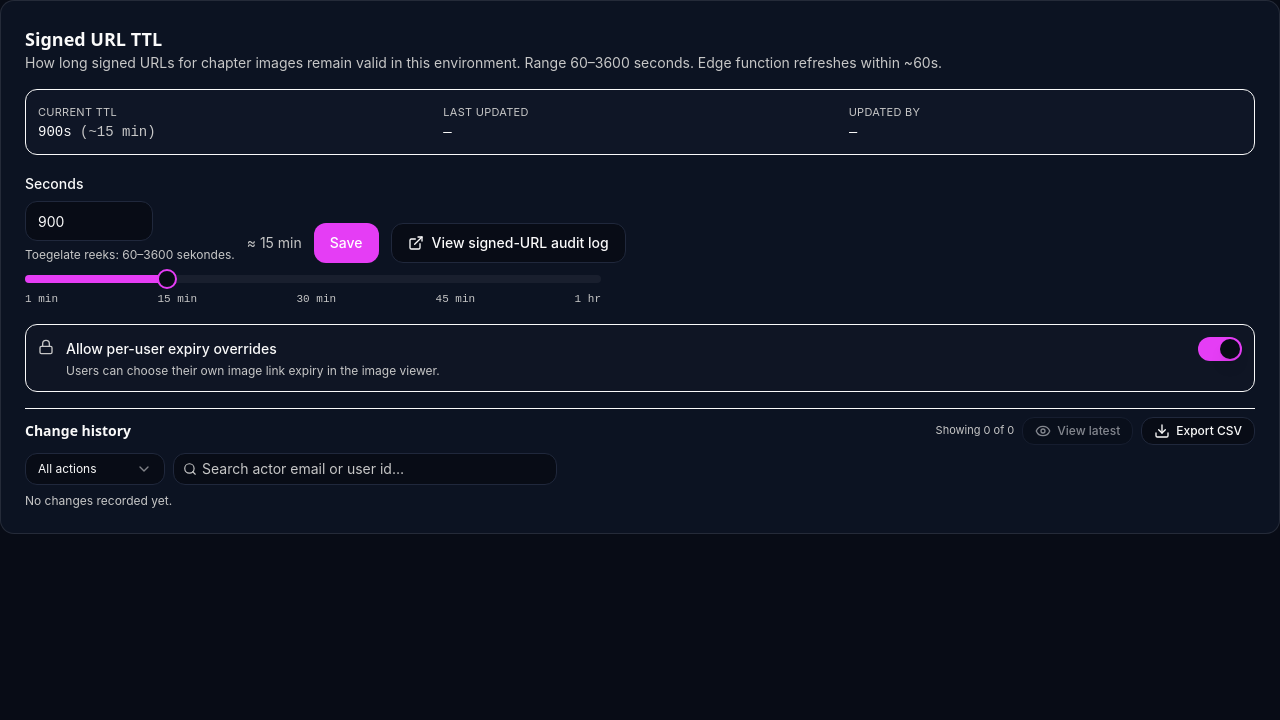
Test case: AdminSignedUrlTtlSection — TTL validation › announces the localized server-error in the live region and stops announcing after keyboard dismissal (lang=af, 0)
Replace the text in the number field labelled "Seconds" with "1200" at (89, 221), box top-left (25, 201), bottom-right (153, 241)
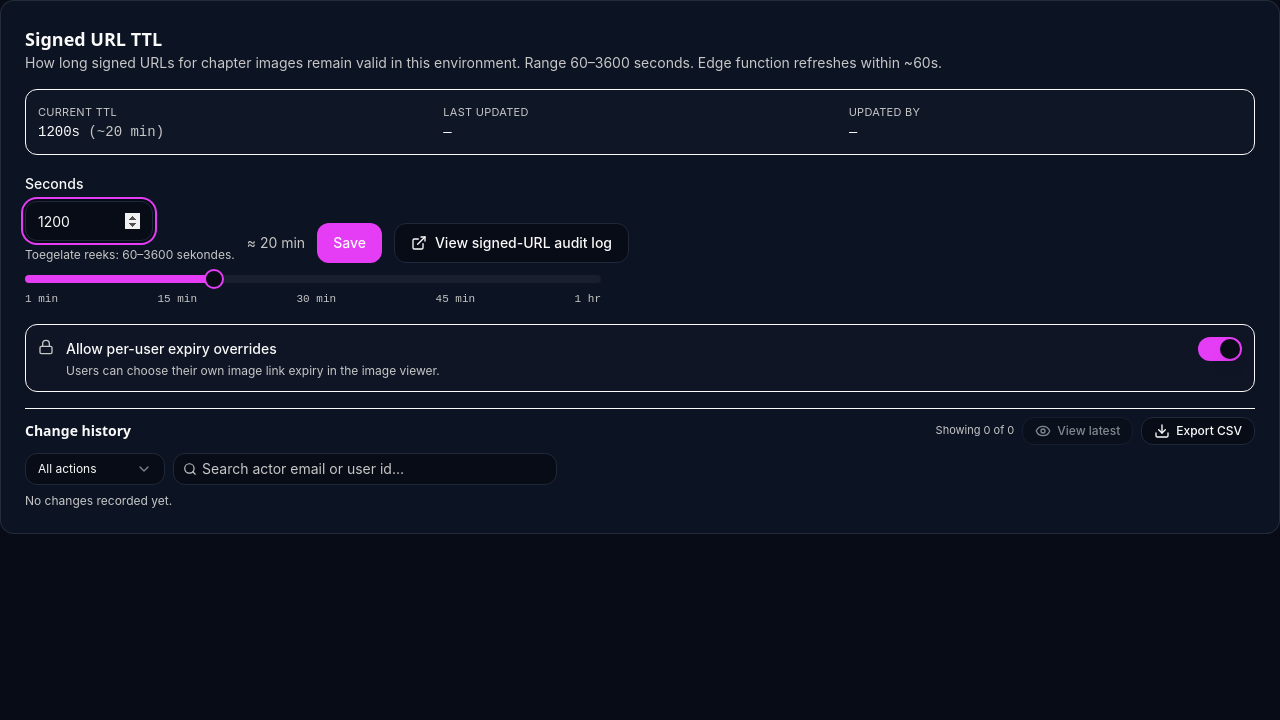
Expected: the button "Save" is enabled
Click the button "Save" at (350, 243), box top-left (317, 223), bottom-right (382, 263)
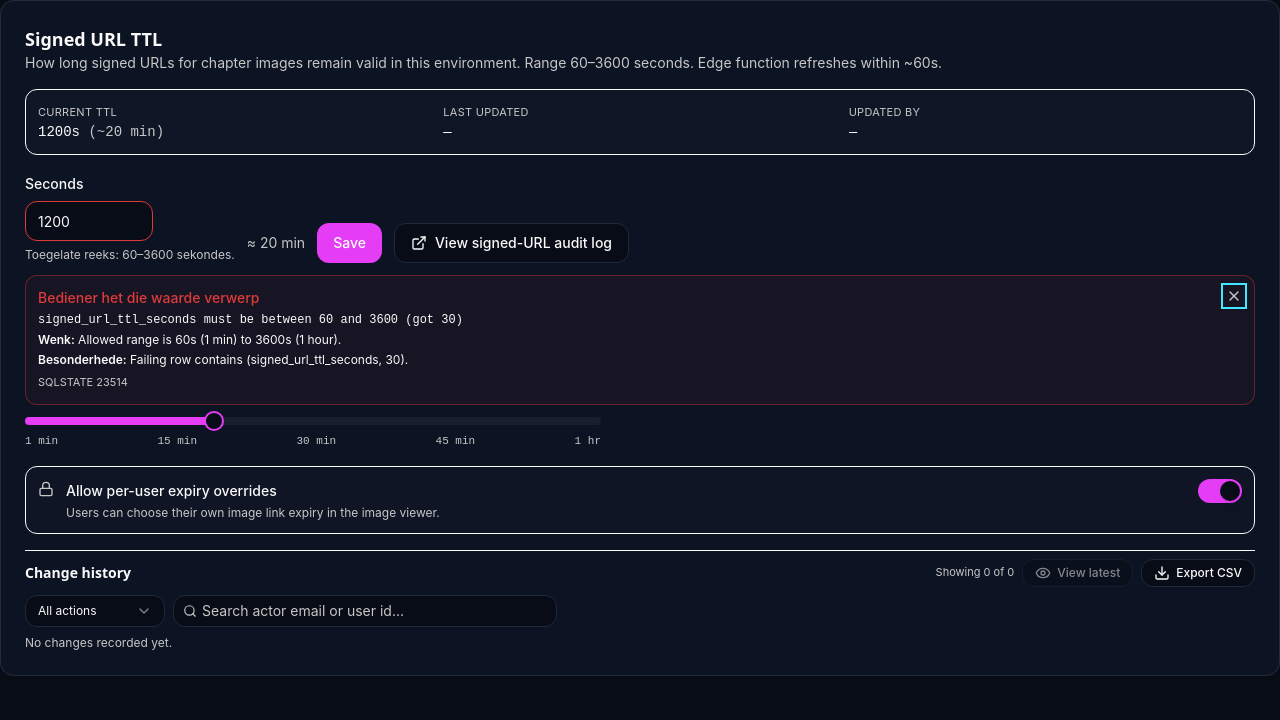
Expected: the message shows "Bediener het die waarde verwerp", top-left (38, 289), bottom-right (260, 306)
Expected: the message shows "Wenk:", top-left (38, 332), bottom-right (75, 347)
Expected: the message shows "Besonderhede:", top-left (38, 352), bottom-right (127, 367)
Press Enter in the button named "dismiss server error", box top-left (1226, 288), bottom-right (1242, 304)
Click the button named "dismiss server error" at (1234, 296), box top-left (1226, 288), bottom-right (1242, 304)
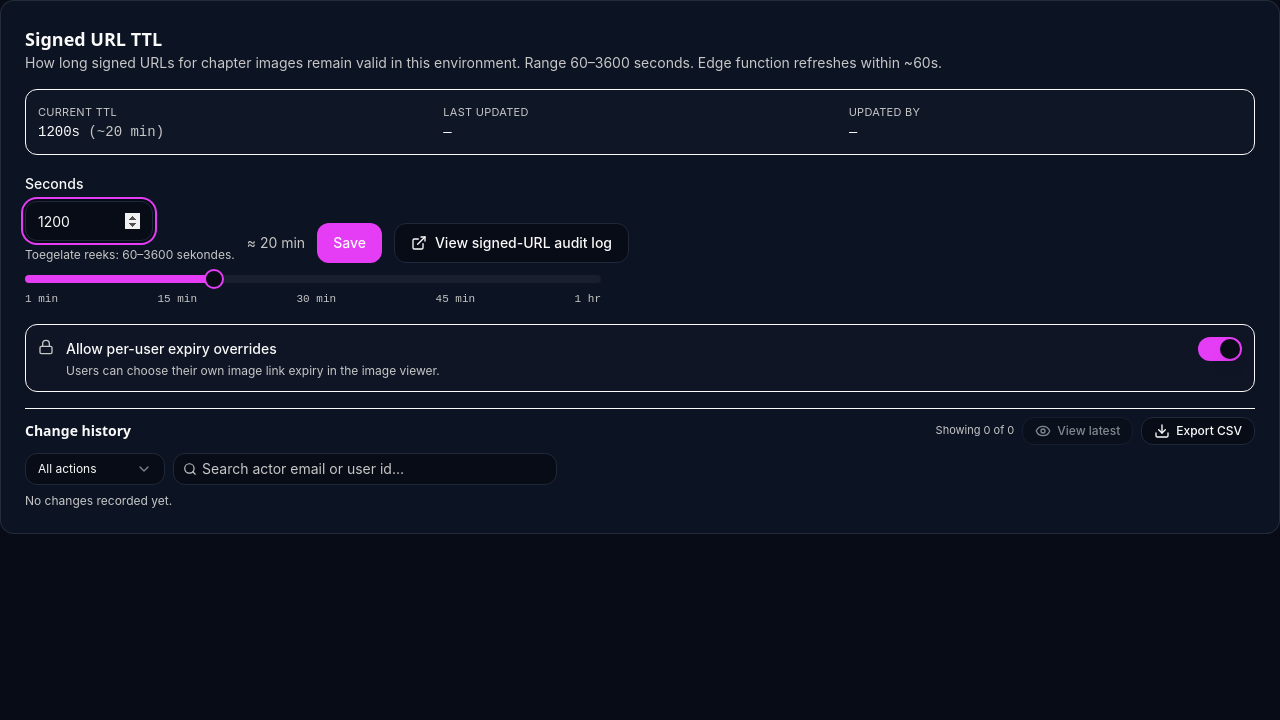
Expected: the message with id "ttl-seconds-server-error" is gone
Expected: the message is gone
